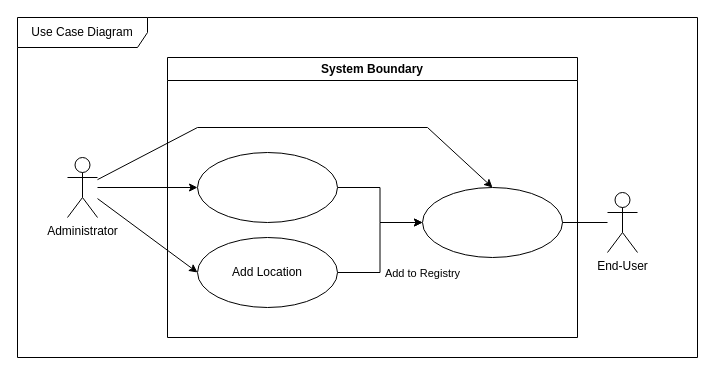
The diagram is 715 pixels wide and 375 high, and some of its shapes have lost their labels. Each missing label, with the centre of its shape:
"Access Registry" goes at pixel 492 222.
"Add Sensor" goes at pixel 267 187.
